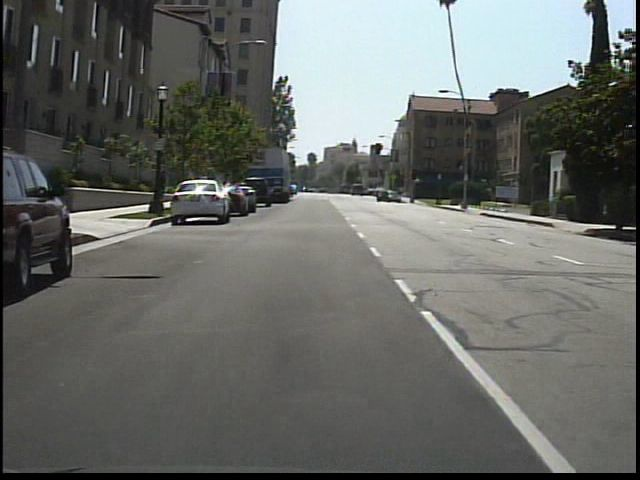person: (154, 167, 172, 212)
